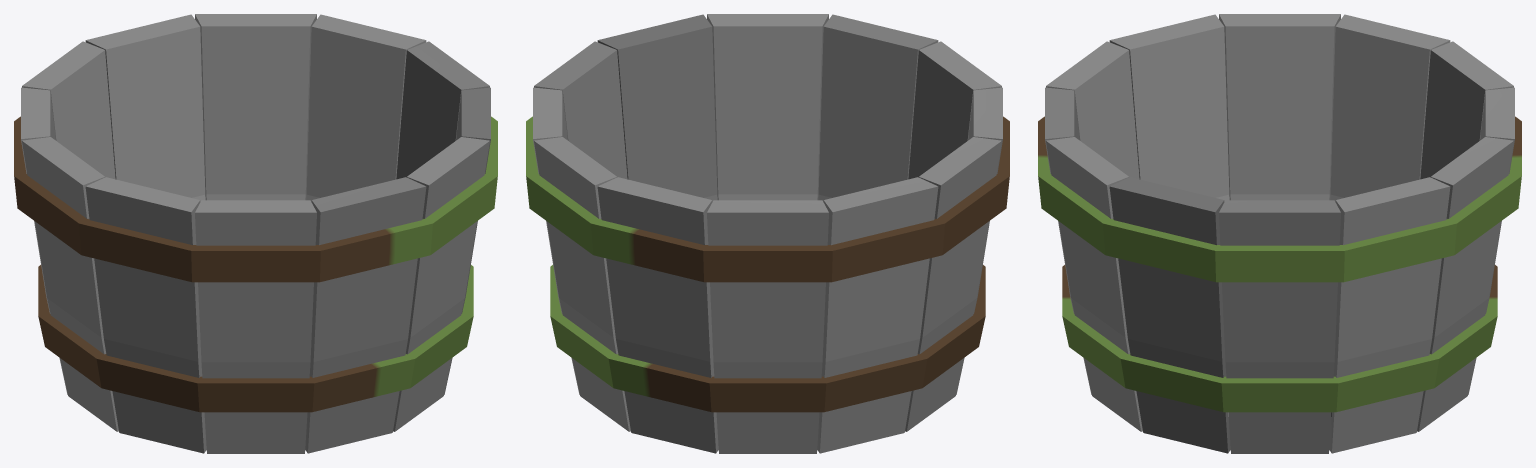
File: Basket_01.fbx
The picture shows the model from 3 angles, left to right: view 1: azimuth 30°, elevation 25°; view 2: azimuth 150°, elevation 25°; view 3: azimuth 270°, elevation 25°; orthographic projection.
Visible parts, largest first — view 1: Basket_01; view 2: Basket_01; view 3: Basket_01.
Part boxes in pixels (x1,y1,x2,y2): Basket_01: (14,14,497,453); Basket_01: (526,14,1009,453); Basket_01: (1038,14,1521,453).
Bounding box in the file's own units: 63.98 × 38.08 × 63.98.
